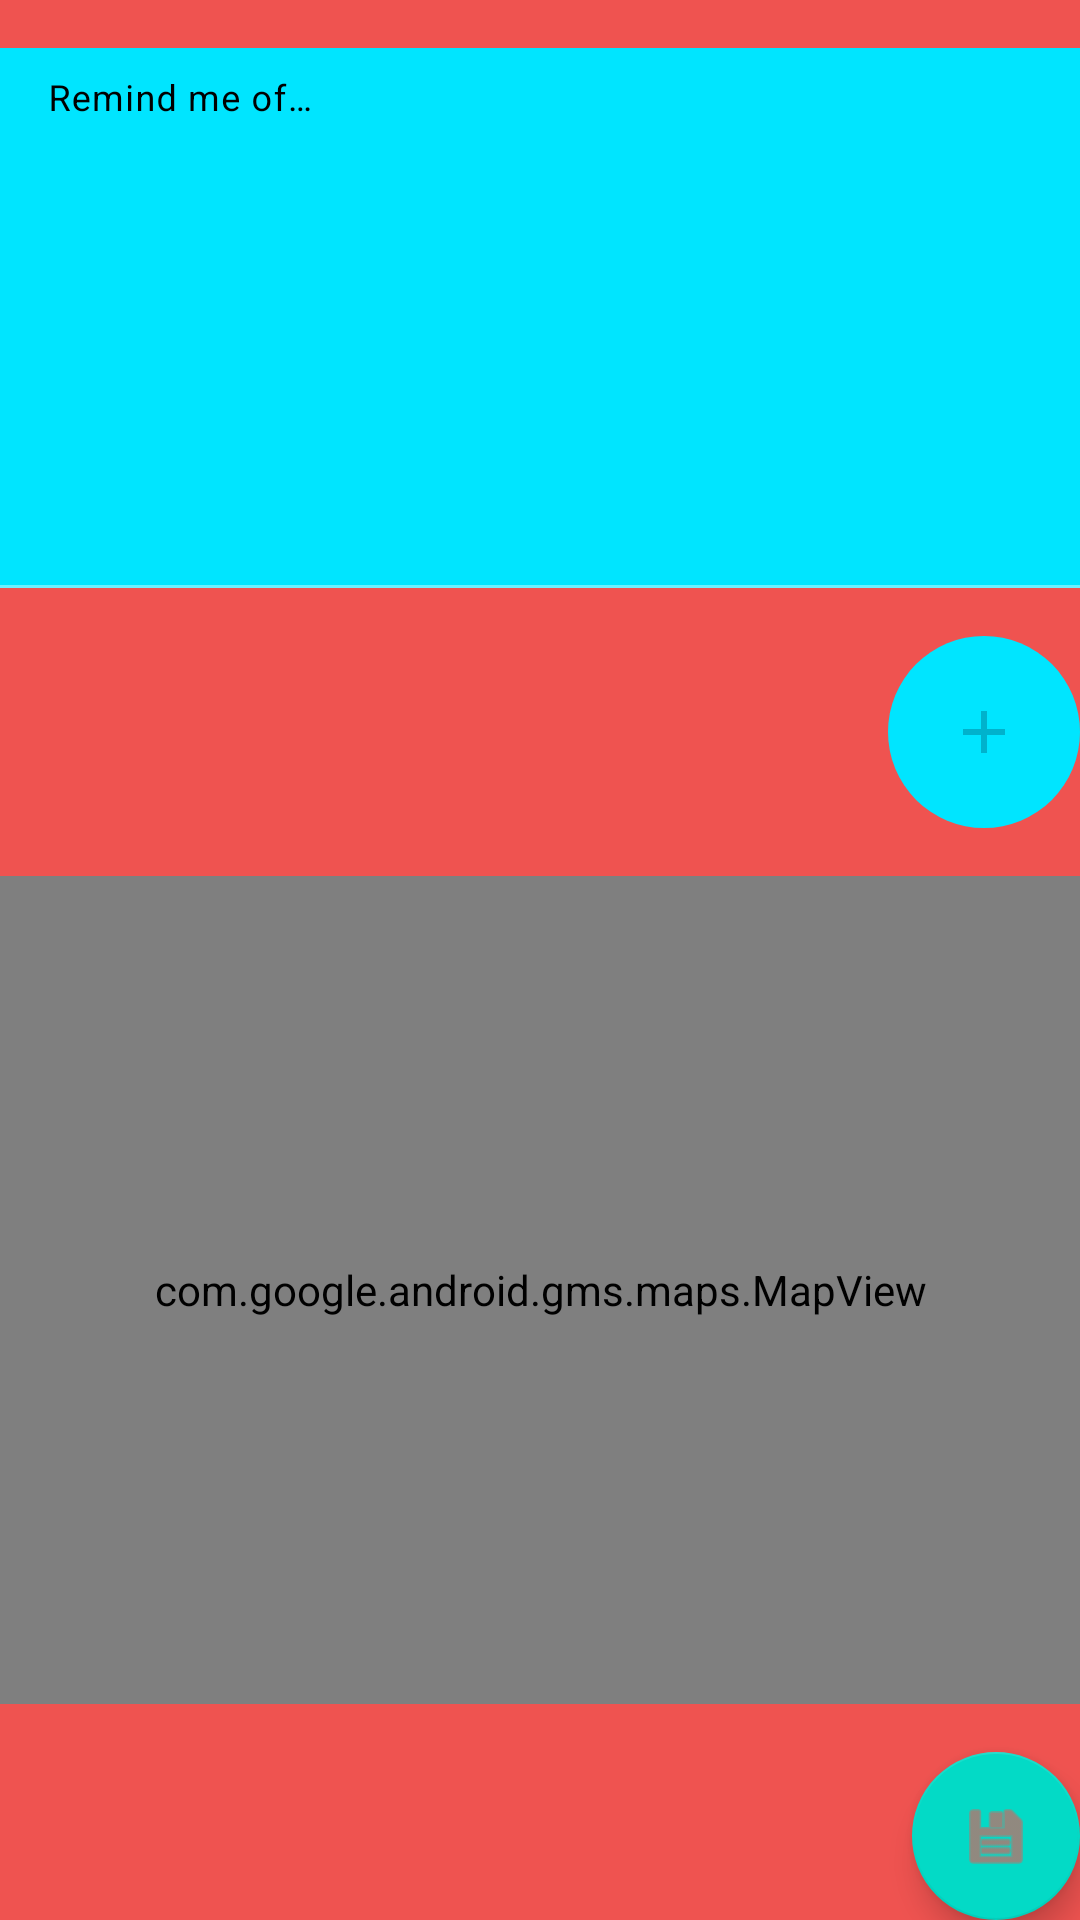

Icon click points for this 1080×1920 phone screenshot, format (x,y):
Add a new location: (984,732)
Save: (996,1836)
